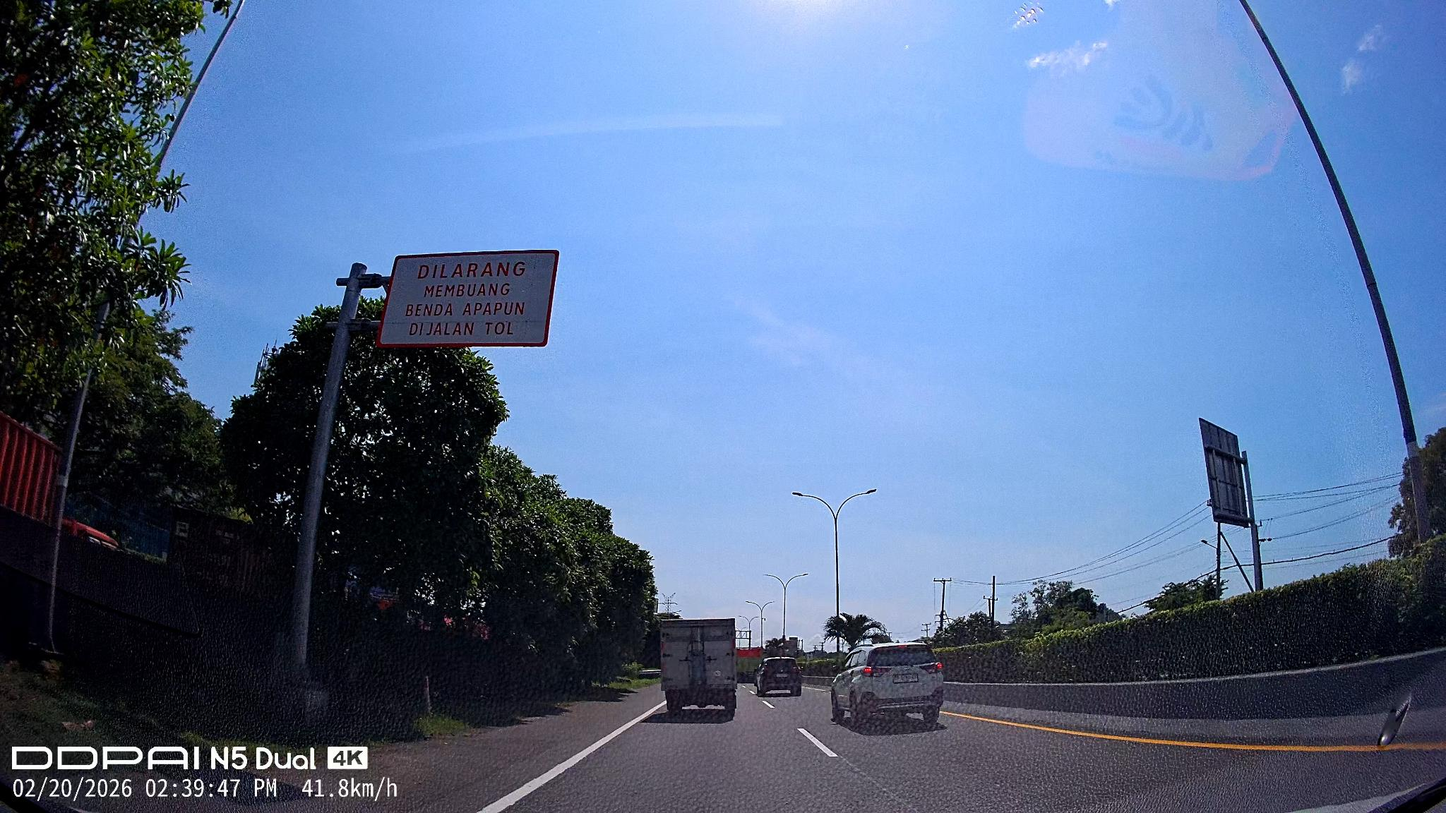rambu_teks: (374, 247, 561, 350)
